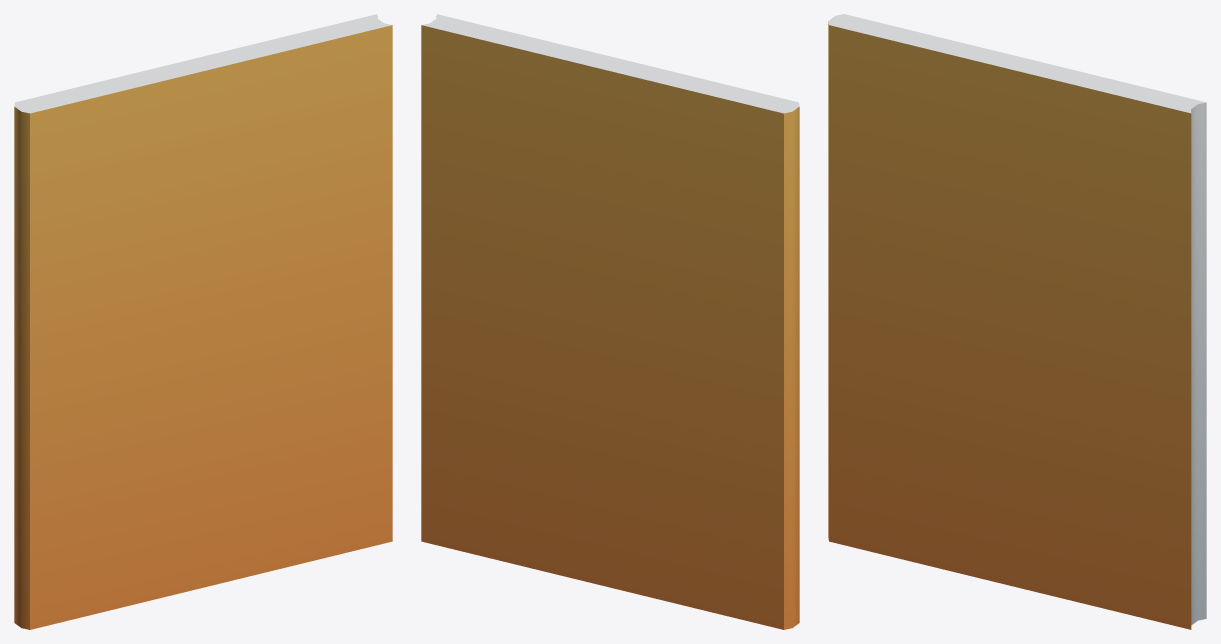
The model's file is comicbook-a.glb.
3 renders of one model, left to right at view 1: azimuth 30°, elevation 25°; view 2: azimuth 150°, elevation 25°; view 3: azimuth 330°, elevation 25°, orthographic.
Visible parts, largest first — view 1: comicbook_A; view 2: comicbook_A; view 3: comicbook_A.
Part boxes in pixels (box(x1,y1,x2,y2)): comicbook_A: box(14, 14, 392, 629); comicbook_A: box(421, 14, 799, 629); comicbook_A: box(828, 14, 1206, 629).
Bounding box in the file's own units: 0.5127 × 0.6894 × 0.0367.
Materials: 1 (1 with a texture image).
